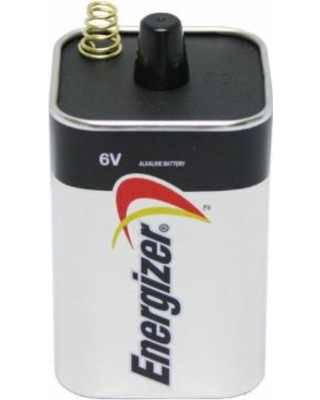6V: (52, 4, 282, 396)
